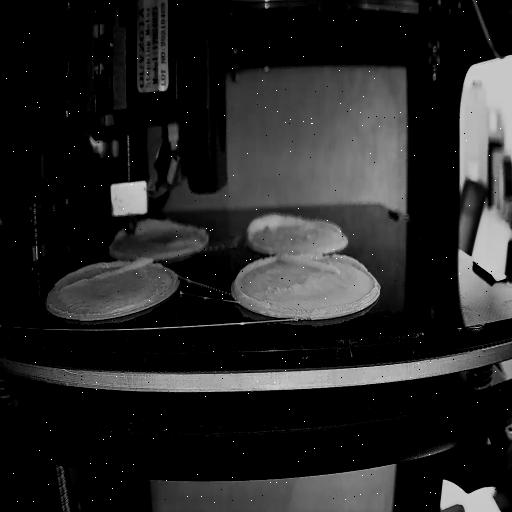over_extrusion: (60, 254, 154, 292), (232, 254, 274, 308), (246, 212, 302, 248), (278, 254, 370, 274), (136, 222, 206, 236), (312, 220, 338, 230), (112, 228, 126, 242)
